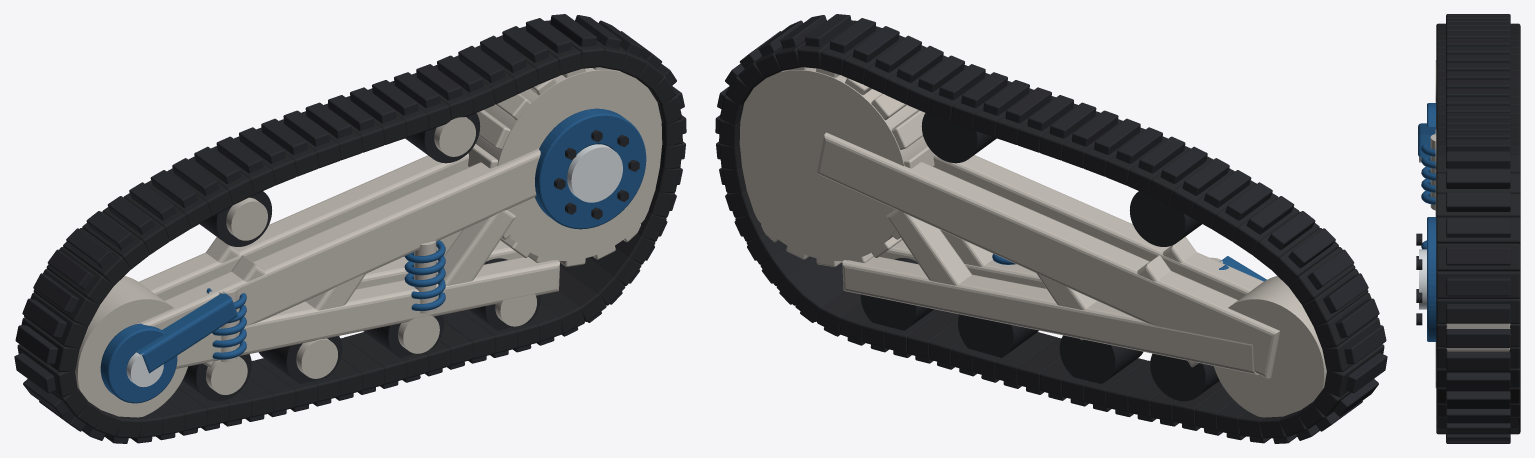
The model's file is anatomy-27.glb.
3 views of the same model, side by side, from view 1: azimuth 30°, elevation 25°; view 2: azimuth 150°, elevation 25°; view 3: azimuth 270°, elevation 25° (orthographic).
Visible parts, largest first — view 1: track, frame, sprocket, hubs, rollers, idler, shocks, tension, hub-bolts; view 2: track, frame, sprocket, rollers, idler; view 3: track, hubs, shocks, sprocket, tension, hub-bolts, rollers, frame.
Part boxes in pixels (box(x1,y1,x2,y2)): track: box(14, 14, 686, 443); frame: box(138, 148, 559, 368); sprocket: box(468, 67, 662, 266); hubs: box(100, 108, 646, 403); rollers: box(182, 113, 541, 401); idler: box(75, 276, 187, 417); shocks: box(206, 240, 445, 362); tension: box(136, 291, 238, 373); hub-bolts: box(554, 130, 639, 219); track: box(715, 14, 1387, 443); frame: box(817, 132, 1280, 378); sprocket: box(739, 67, 934, 266); rollers: box(860, 113, 1219, 401); idler: box(1213, 276, 1326, 417); track: box(1436, 14, 1520, 443); hubs: box(1419, 103, 1436, 341); shocks: box(1421, 133, 1435, 249); sprocket: box(1446, 323, 1510, 351); tension: box(1418, 123, 1435, 157); hub-bolts: box(1416, 233, 1422, 325); rollers: box(1435, 60, 1436, 387); frame: box(1435, 116, 1436, 379).
Bounding box in the file's own units: 2.84 × 1.29 × 0.395.
